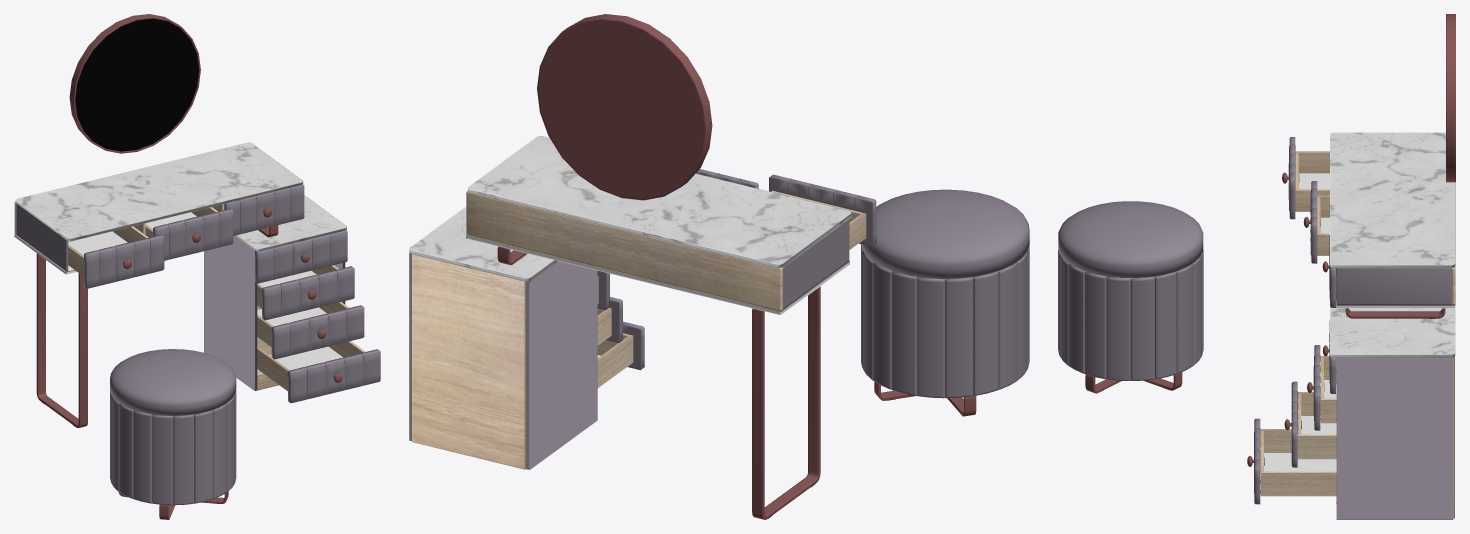
File: dresser.glb
3 renders of one model, left to right at view 1: azimuth 30°, elevation 25°; view 2: azimuth 150°, elevation 25°; view 3: azimuth 270°, elevation 25°, orthographic. The views are drawn at different scales.
Visible parts, largest first — view 1: Object_8, Object_10, Object_3, Object_11, Object_14, Object_13, Object_12, Object_6, Object_7; view 2: Object_8, Object_14, Object_12, Object_10, Object_11, Object_2; view 3: Object_8, Object_10, Object_14, Object_13, Object_12, Object_11, Object_6, Object_2.
Boxes of the visible parts, box(x1,y1,x2,y2) form: Object_8: box(16, 184, 380, 505); Object_10: box(15, 142, 346, 251); Object_3: box(75, 18, 198, 151); Object_11: box(36, 225, 278, 519); Object_14: box(14, 202, 365, 390); Object_13: box(68, 212, 342, 391); Object_12: box(69, 14, 342, 382); Object_6: box(97, 188, 364, 399); Object_7: box(273, 234, 338, 355); Object_8: box(409, 169, 1029, 469); Object_14: box(412, 190, 866, 469); Object_12: box(537, 14, 712, 200); Object_10: box(409, 136, 851, 281); Object_11: box(497, 246, 976, 519); Object_2: box(466, 234, 849, 315); Object_8: box(1058, 137, 1453, 519); Object_10: box(1330, 132, 1455, 357); Object_14: box(1115, 151, 1455, 518); Object_13: box(1261, 173, 1336, 496); Object_12: box(1247, 14, 1455, 466); Object_11: box(1085, 308, 1445, 393); Object_6: box(1254, 143, 1336, 493); Object_2: box(1336, 305, 1455, 308).
Size of the model in its own units: 1.34 by 1.44 by 1.27.
10 materials, 4 textured.
